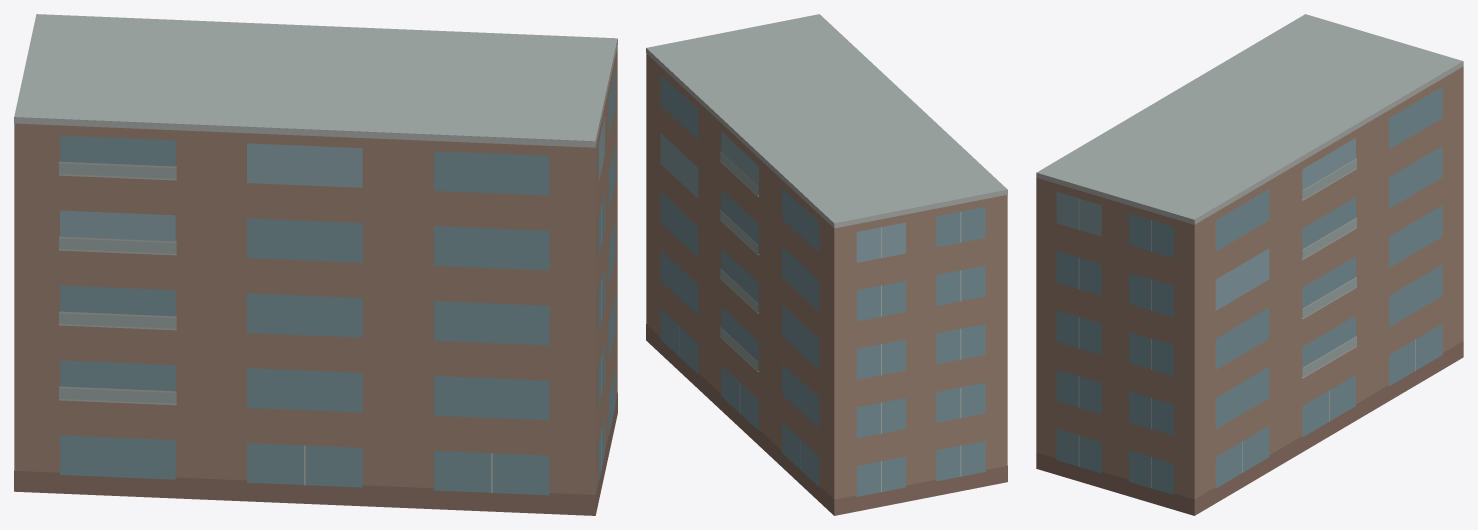
File: survey-upis-32554323.glb
3 renders of one model, left to right at view 1: azimuth 30°, elevation 25°; view 2: azimuth 150°, elevation 25°; view 3: azimuth 270°, elevation 25°, orthographic. The views are drawn at different scales.
Parts seen in each view (by area): view 1: survey-upis-32554323.tmp; view 2: survey-upis-32554323.tmp; view 3: survey-upis-32554323.tmp.
Part boxes in pixels (x1=…): survey-upis-32554323.tmp: x1=14, y1=14, x2=617, y2=515; survey-upis-32554323.tmp: x1=646, y1=14, x2=1007, y2=515; survey-upis-32554323.tmp: x1=1036, y1=14, x2=1463, y2=515.
Bounding box in the file's own units: 21.02 × 14.1 × 18.44.
